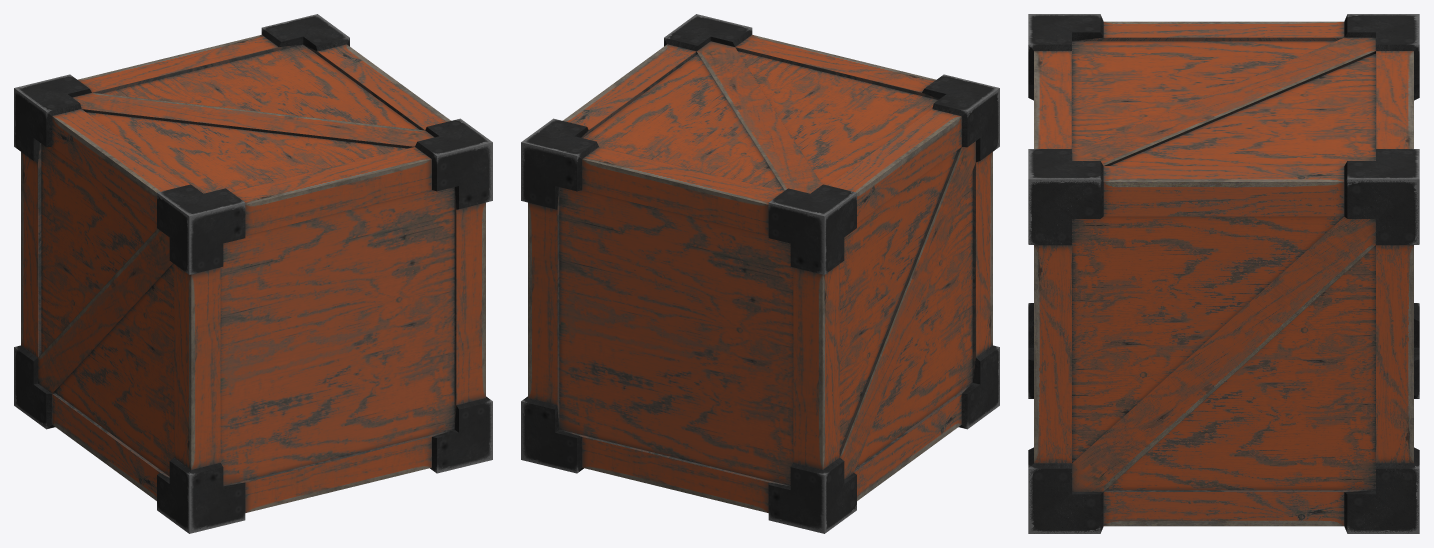
The model's file is crate.gltf.
3 views of the same model, side by side, from view 1: azimuth 30°, elevation 25°; view 2: azimuth 150°, elevation 25°; view 3: azimuth 270°, elevation 25° (orthographic). The views are drawn at different scales.
Parts seen in each view (by area): view 1: CubeMP; view 2: CubeMP; view 3: CubeMP.
Boxes of the visible parts, bbox=[...] form: CubeMP: bbox=[14, 14, 492, 533]; CubeMP: bbox=[521, 14, 999, 533]; CubeMP: bbox=[1028, 14, 1419, 533].
Size of the model in its own units: 1.05 by 1.05 by 1.05.
Materials: 1 (1 with a texture image).
